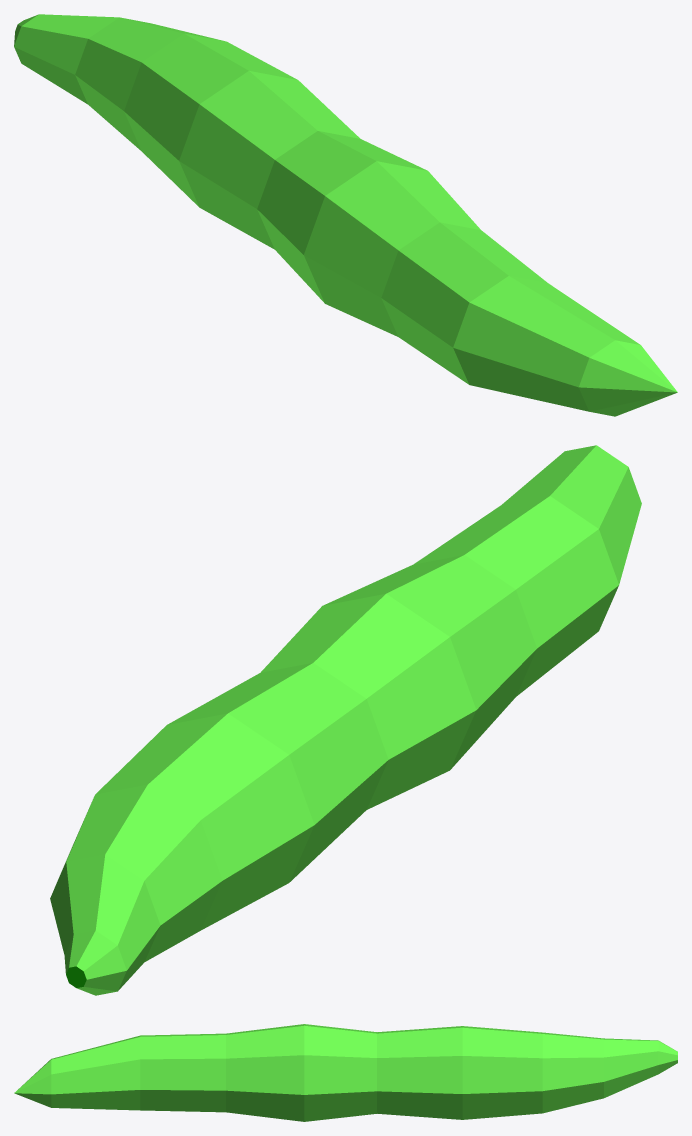
Rendered from bean01.obj.
The picture shows the model from 3 angles, top to bottom: view 1: azimuth 30°, elevation 25°; view 2: azimuth 150°, elevation 25°; view 3: azimuth 270°, elevation 25°; orthographic projection. The views are drawn at different scales.
Visible parts, largest first — view 1: Cylinder; view 2: Cylinder; view 3: Cylinder.
Part boxes in pixels (left/top/right/bottom): Cylinder: left=14, top=14, right=677, bottom=416; Cylinder: left=50, top=445, right=641, bottom=995; Cylinder: left=14, top=1024, right=677, bottom=1121.
Size of the model in its own units: 0.0149 by 0.0145 by 0.0927.
1 material, 1 textured.
